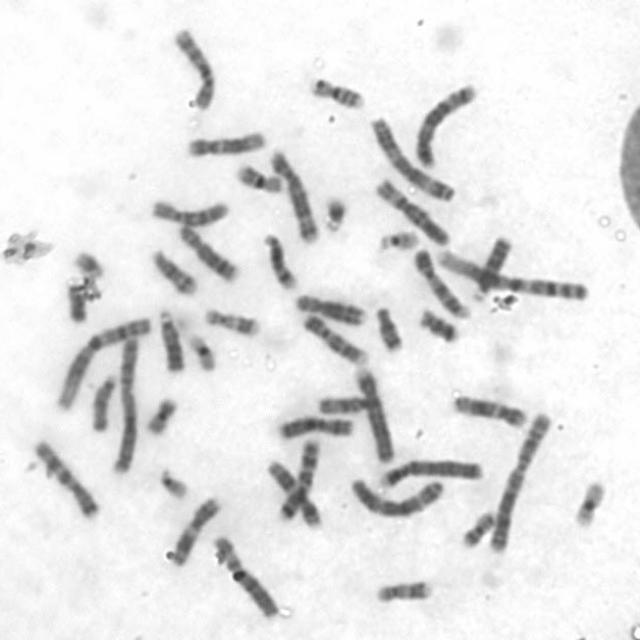A1: (51, 312, 154, 412), (432, 244, 591, 304)
A2: (486, 408, 555, 555), (108, 328, 142, 477)
A3: (367, 112, 454, 202), (348, 475, 446, 519)
B4: (352, 364, 398, 464), (376, 456, 485, 489)
B5: (409, 78, 480, 169), (266, 144, 322, 246)
C10: (170, 24, 218, 111), (147, 196, 231, 228)
C11: (262, 456, 323, 531), (163, 492, 222, 568)
C12: (447, 390, 530, 430), (182, 126, 268, 159)
C6: (208, 531, 281, 620), (371, 175, 450, 247)
C7: (29, 436, 102, 520), (274, 433, 321, 524)
C8: (176, 220, 242, 285), (290, 290, 369, 327)
C9: (410, 244, 471, 320), (299, 310, 369, 366)
D13: (470, 234, 516, 300), (154, 305, 186, 374)
D14: (148, 244, 201, 297), (258, 230, 298, 291)
D15: (88, 370, 119, 433), (315, 390, 376, 416)
E16: (306, 73, 366, 110), (232, 160, 284, 195)
E17: (200, 306, 261, 338), (372, 576, 433, 604)
E18: (414, 303, 462, 345), (371, 302, 405, 353)
F19: (570, 476, 608, 529), (187, 330, 219, 373)
F20: (458, 507, 497, 551), (142, 393, 179, 436)
G21: (69, 246, 106, 283), (319, 194, 349, 235)
G22: (155, 463, 190, 502), (375, 226, 420, 253)
X: (272, 412, 358, 442)
Y: (61, 274, 89, 324)
